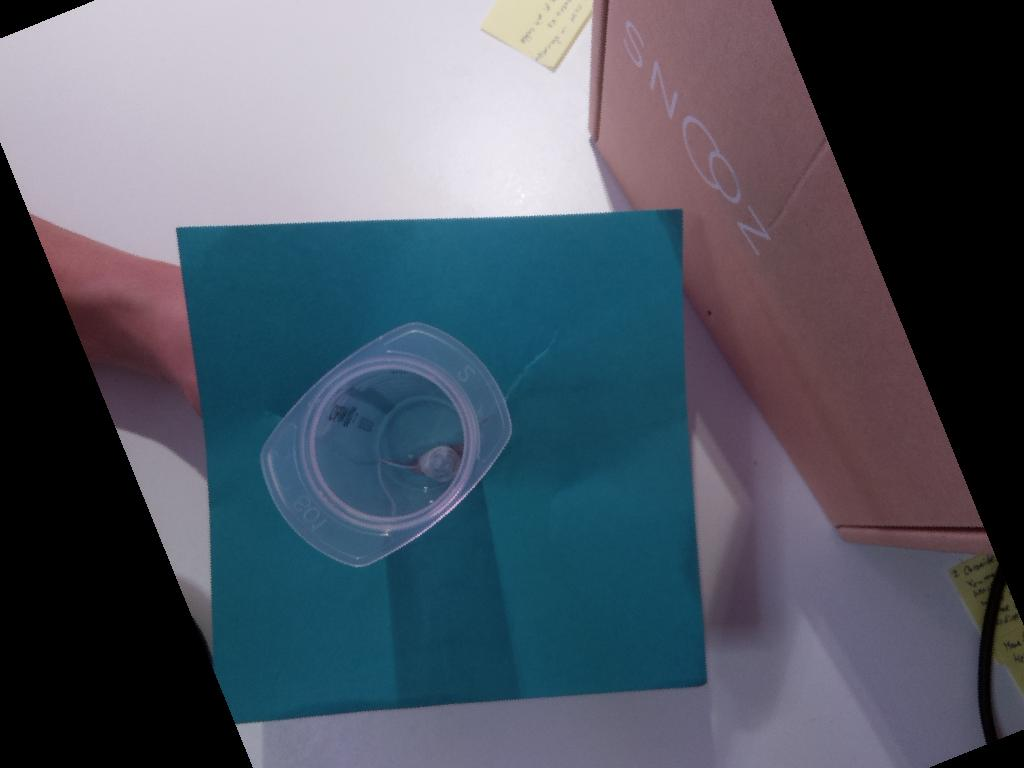clean: (260, 321, 514, 567)
